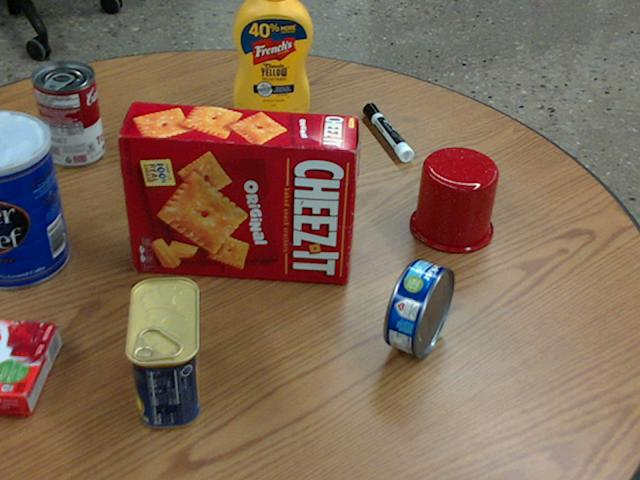cracker_box: (119, 102, 357, 284)
gelatin_box: (0, 319, 59, 413)
large_marker: (364, 102, 413, 161)
master_chef_can: (0, 111, 69, 290)
mug: (408, 146, 497, 252)
mustard_bottle: (233, 0, 312, 118)
potted_meat_can: (123, 276, 197, 427)
sugar_box: (154, 109, 318, 192)
tomato_soup_can: (32, 60, 104, 166)
tuna_fish_can: (384, 258, 452, 356)
